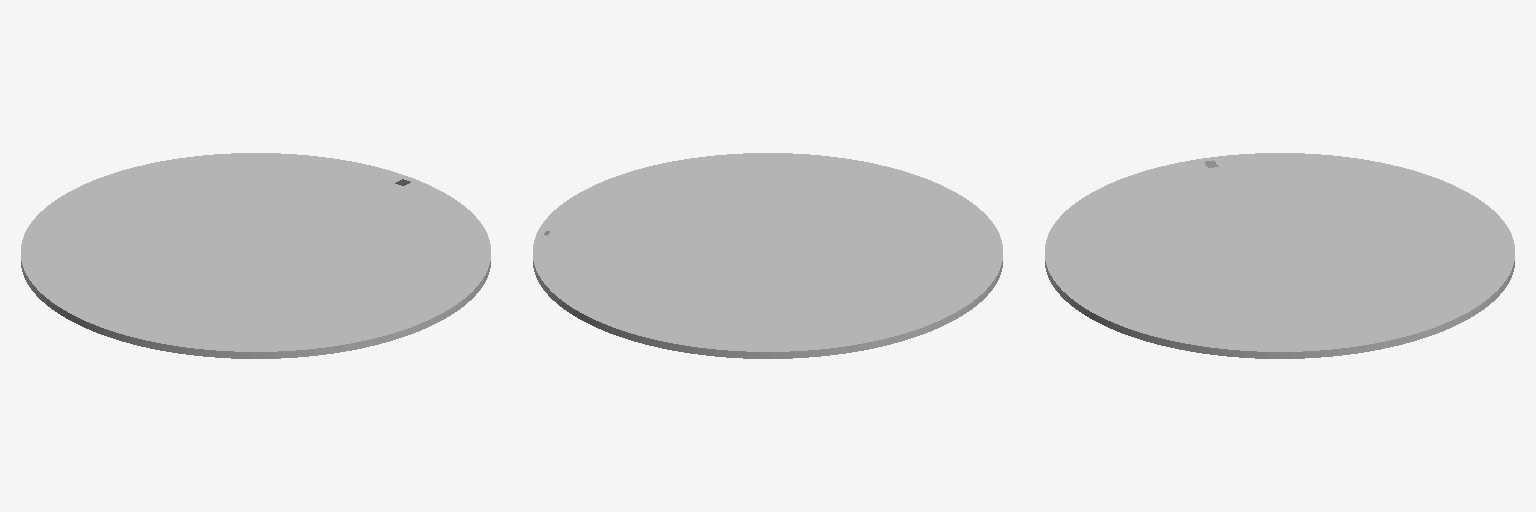
Rendered from ring.obj.
3 views of the same model, side by side, from view 1: azimuth 30°, elevation 25°; view 2: azimuth 150°, elevation 25°; view 3: azimuth 270°, elevation 25° (orthographic).
Visible parts, largest first — view 1: Cylinder; view 2: Cylinder; view 3: Cylinder.
Boxes of the visible parts, <box> form: Cylinder: <box>21,153,490,358</box>; Cylinder: <box>533,153,1002,358</box>; Cylinder: <box>1045,153,1514,358</box>.
Bounding box in the file's own units: 6 × 0.1 × 6.